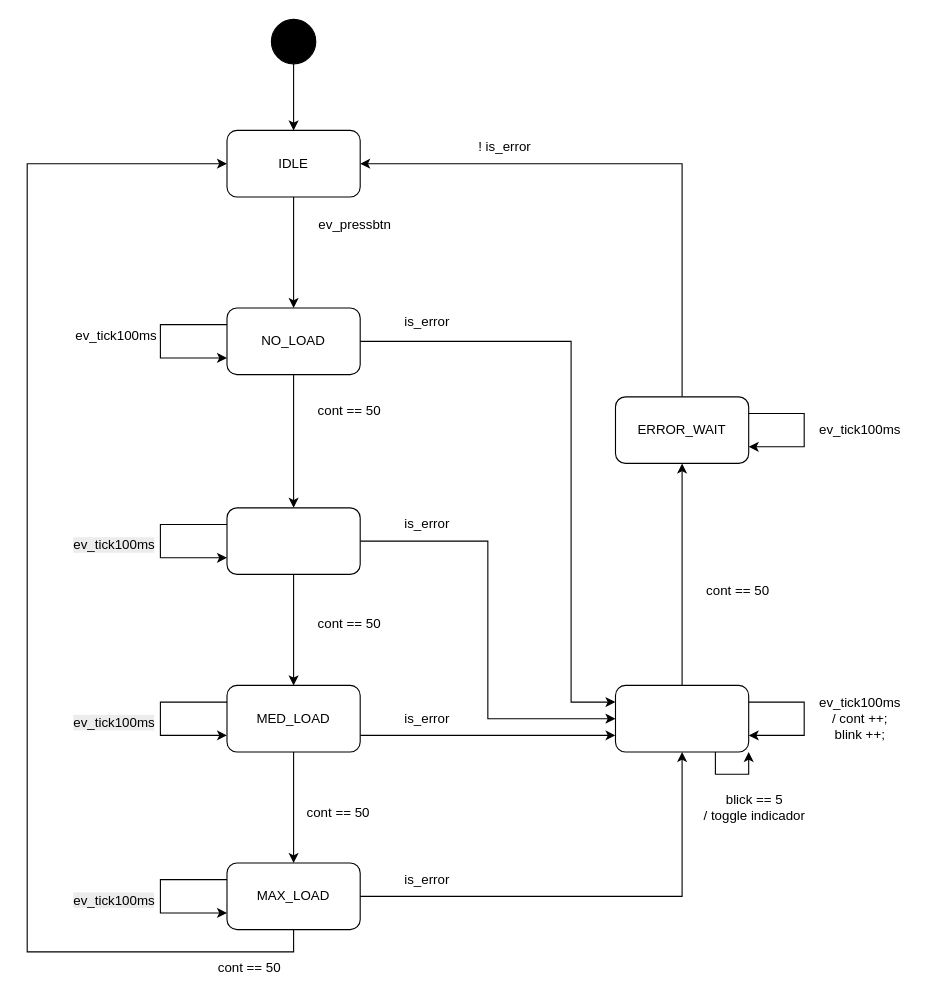
Some shapes in this 935 by 1005 pixel diagram are drawn without their labels. The shapes that lost their labels are listed below. From the top down, each one's centre as x and y in pixels, then its label:
At (293,540): "LOW_LOAD".
At (681,718): "ERROR_BLINK".
